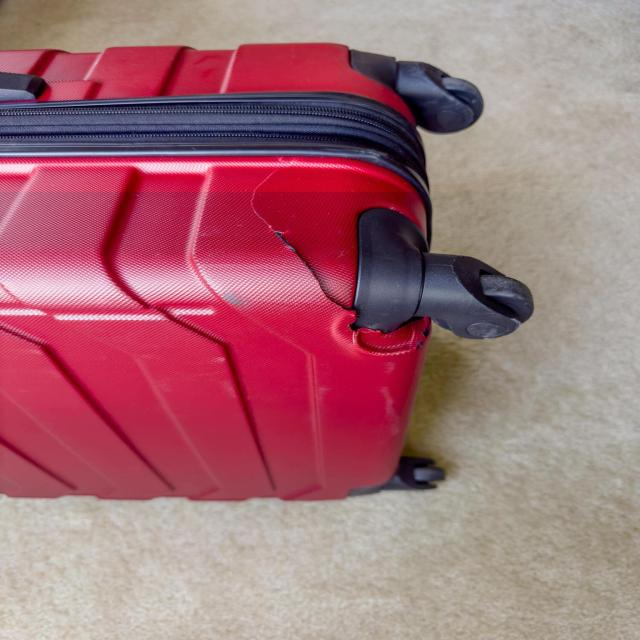Damage-bag: (247, 166, 427, 354)
